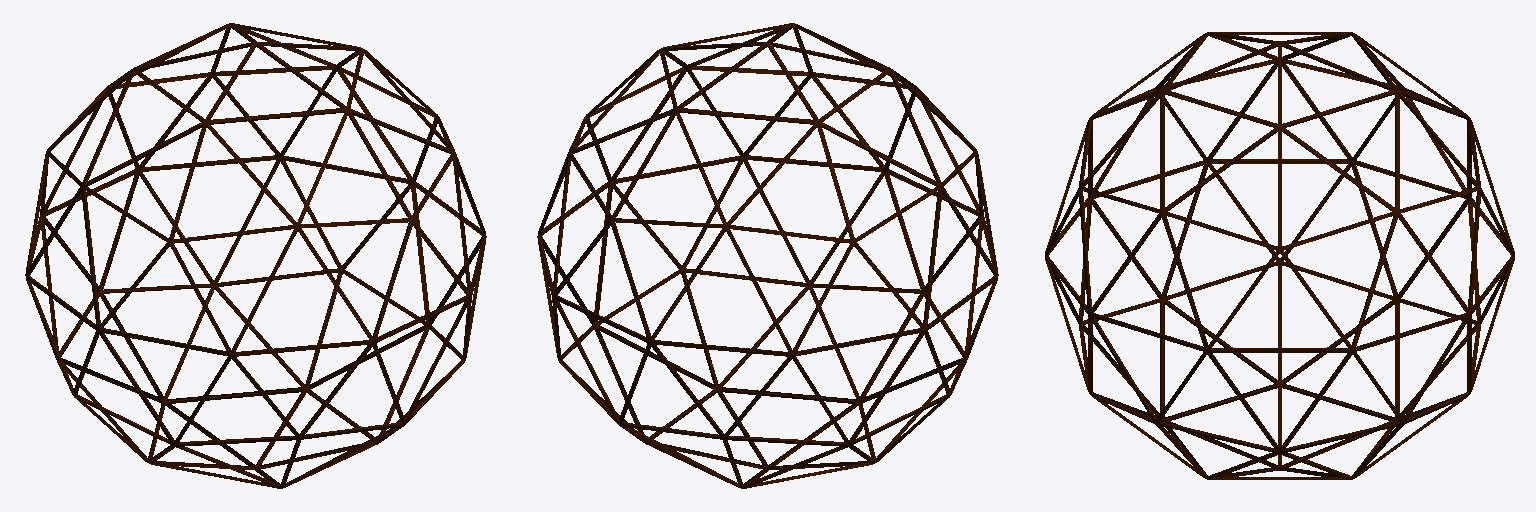
File: armor.obj
3 renders of one model, left to right at view 1: azimuth 30°, elevation 25°; view 2: azimuth 150°, elevation 25°; view 3: azimuth 270°, elevation 25°, orthographic.
Size of the model in its own units: 1.35 by 1.42 by 1.42.